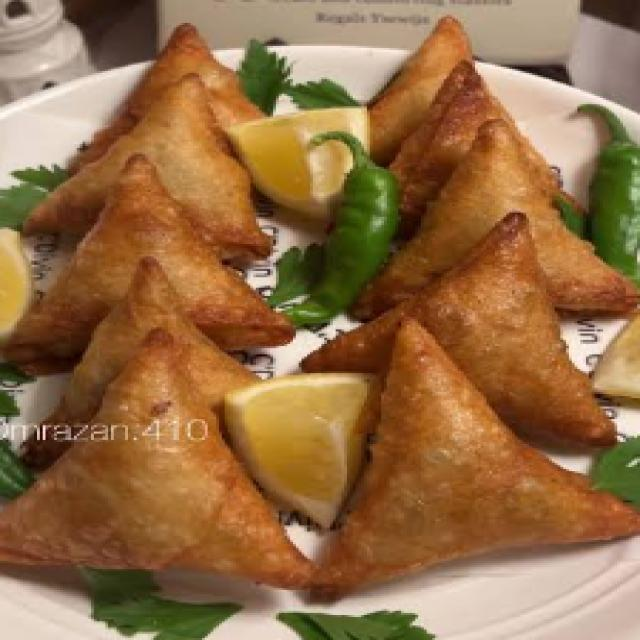Samboosa: (0, 16, 338, 625)
